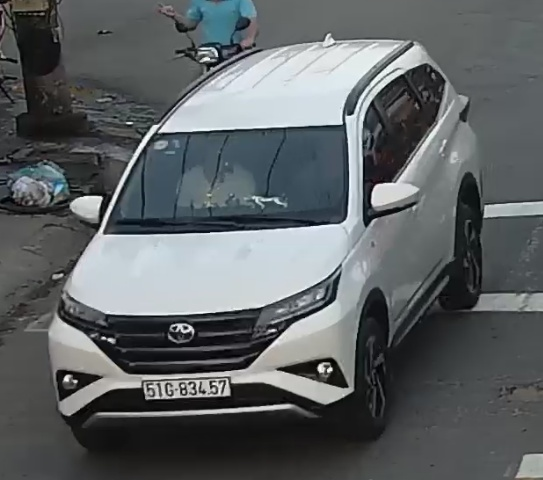vehicle plate: (137, 371, 239, 400)
